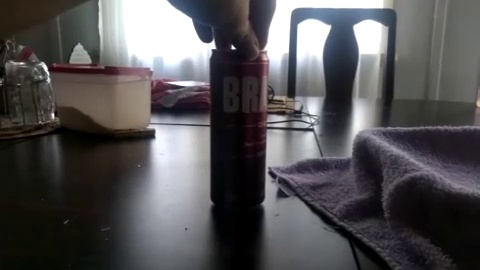duplo_malte: (187, 31, 285, 231)
